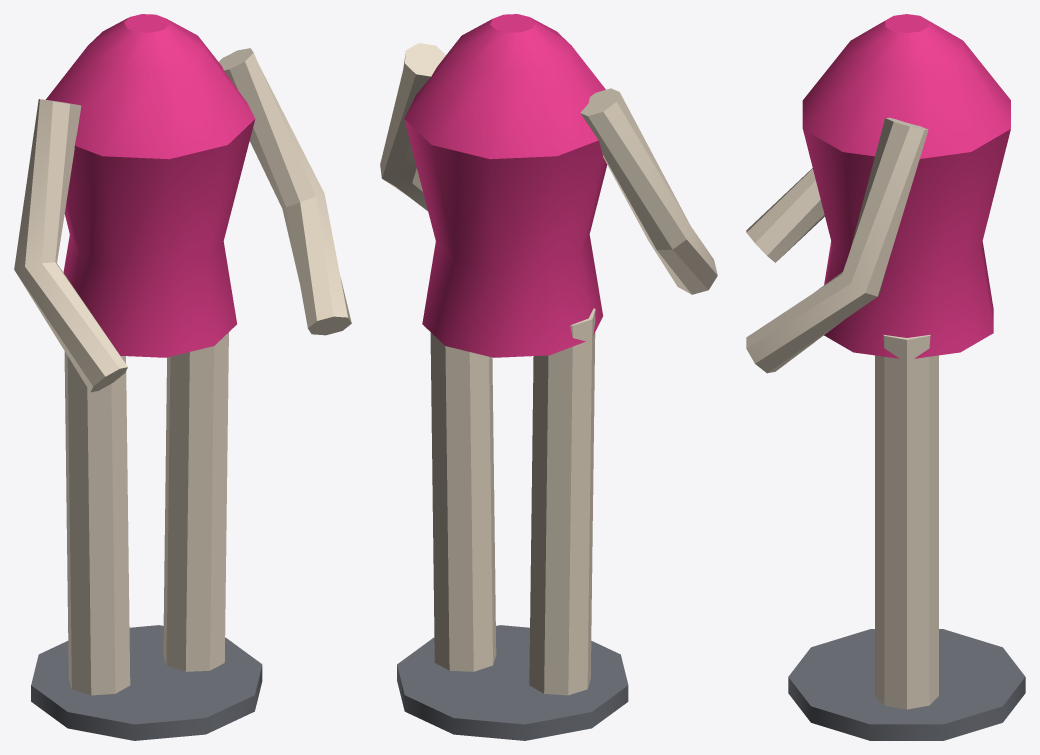
File: mannequin.glb
3 renders of one model, left to right at view 1: azimuth 30°, elevation 25°; view 2: azimuth 150°, elevation 25°; view 3: azimuth 270°, elevation 25°, orthographic.
Visible parts, largest first — view 1: mannequin; view 2: mannequin; view 3: mannequin.
Part boxes in pixels (box(x1,y1,x2,y2)): mannequin: box(14, 14, 351, 740); mannequin: box(380, 14, 717, 740); mannequin: box(746, 14, 1025, 740).
Bounding box in the file's own units: 0.7783 × 1.62 × 0.6118.
